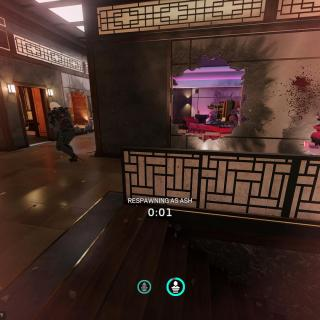Character: (47, 101, 79, 163), (230, 104, 240, 129)
Head: (49, 101, 61, 110), (237, 105, 240, 111)
